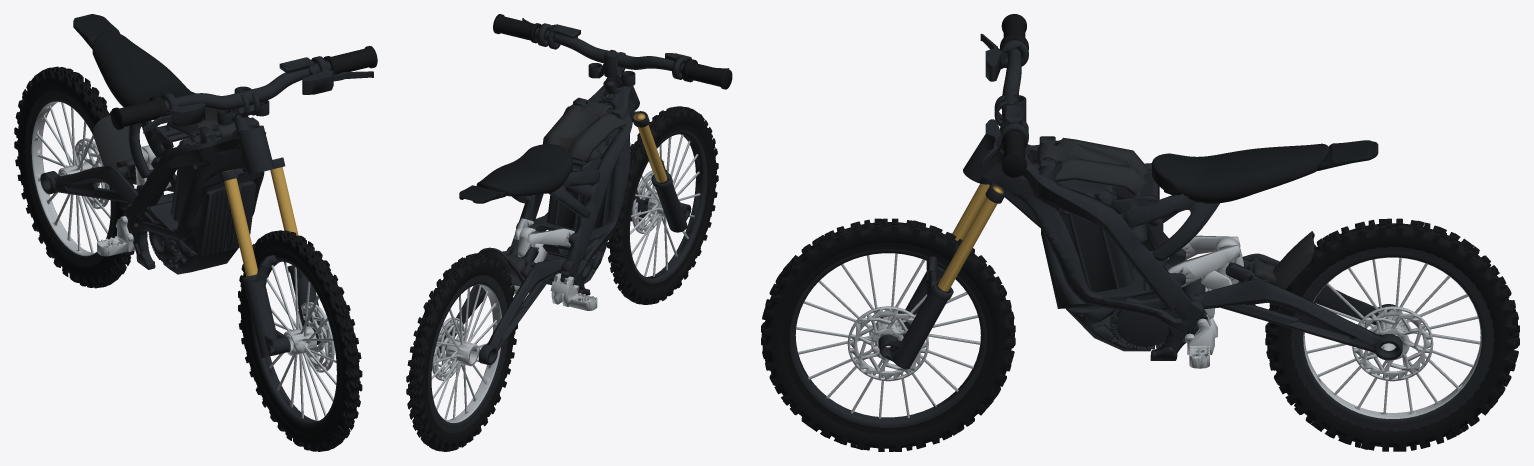
Rendered from lbx.glb.
3 renders of one model, left to right at view 1: azimuth 30°, elevation 25°; view 2: azimuth 150°, elevation 25°; view 3: azimuth 270°, elevation 25°, orthographic. The views are drawn at different scales.
Parts seen in each view (by area): view 1: Tyre (×2), Frame component 0, Spokes (×2), FULL SUSPENSION Frame - Seat (1).stl, Rim (×2), Fork - Fork Body (2).stl, FULL SUSPENSION Frame - Controller (1).stl, Swingarm, Cockpit - Handlebar (8).stl, Brake rotor (×2), FULL SUSPENSION Frame - Motor.stl, FULL SUSPENSION Frame - Rear Mudguard (1).stl (+12 smaller); view 2: Tyre (×2), Frame component 0, Spokes (×2), Rim (×2), FULL SUSPENSION Frame - Seat (1).stl, Swingarm, FULL SUSPENSION Frame - Battery Hatch (1).stl, Brake rotor (×2), Cockpit - Handlebar (8).stl, Battery, Fork - Fork Body (2).stl, FULL SUSPENSION Frame - Foot Peg RIGHT (1).stl (+11 smaller); view 3: Tyre (×2), Frame component 0, Rim (×2), Spokes (×2), FULL SUSPENSION Frame - Seat (1).stl, Swingarm, Brake rotor (×2), Battery, FULL SUSPENSION Frame - Battery Hatch (1).stl, Fork - Fork Body (2).stl, FULL SUSPENSION Frame - Motor.stl, Frame component 2 (+9 smaller).
Boxes of the visible parts, x1=… form: Tyre (×2): x1=14, y1=66, x2=362, y2=451; Frame component 0: x1=123, y1=117, x2=274, y2=269; Spokes (×2): x1=31, y1=101, x2=336, y2=421; FULL SUSPENSION Frame - Seat (1).stl: x1=73, y1=14, x2=195, y2=107; Rim (×2): x1=24, y1=90, x2=337, y2=427; Fork - Fork Body (2).stl: x1=241, y1=254, x2=325, y2=357; FULL SUSPENSION Frame - Controller (1).stl: x1=181, y1=179, x2=255, y2=256; Swingarm: x1=40, y1=161, x2=176, y2=204; Cockpit - Handlebar (8).stl: x1=164, y1=61, x2=330, y2=112; Brake rotor (×2): x1=75, y1=138, x2=334, y2=372; FULL SUSPENSION Frame - Motor.stl: x1=148, y1=197, x2=238, y2=274; FULL SUSPENSION Frame - Rear Mudguard (1).stl: x1=93, y1=115, x2=140, y2=167; Tyre (×2): x1=406, y1=106, x2=718, y2=451; Frame component 0: x1=506, y1=77, x2=639, y2=295; Spokes (×2): x1=431, y1=134, x2=700, y2=422; Rim (×2): x1=427, y1=130, x2=707, y2=433; FULL SUSPENSION Frame - Seat (1).stl: x1=459, y1=144, x2=572, y2=203; Swingarm: x1=439, y1=243, x2=566, y2=365; FULL SUSPENSION Frame - Battery Hatch (1).stl: x1=543, y1=101, x2=626, y2=160; Brake rotor (×2): x1=432, y1=171, x2=659, y2=380; Cockpit - Handlebar (8).stl: x1=534, y1=27, x2=684, y2=73; Battery: x1=546, y1=136, x2=612, y2=230; Fork - Fork Body (2).stl: x1=630, y1=158, x2=691, y2=232; FULL SUSPENSION Frame - Foot Peg RIGHT (1).stl: x1=550, y1=273, x2=597, y2=310; Tyre (×2): x1=761, y1=218, x2=1519, y2=451; Frame component 0: x1=963, y1=134, x2=1219, y2=360; Rim (×2): x1=789, y1=246, x2=1494, y2=431; Spokes (×2): x1=796, y1=253, x2=1481, y2=418; FULL SUSPENSION Frame - Seat (1).stl: x1=1152, y1=140, x2=1378, y2=203; Swingarm: x1=1183, y1=253, x2=1402, y2=360; Brake rotor (×2): x1=847, y1=306, x2=1433, y2=381; Battery: x1=1055, y1=172, x2=1135, y2=292; FULL SUSPENSION Frame - Battery Hatch (1).stl: x1=1037, y1=137, x2=1146, y2=195; Fork - Fork Body (2).stl: x1=878, y1=256, x2=953, y2=369; FULL SUSPENSION Frame - Motor.stl: x1=1066, y1=287, x2=1168, y2=351; Frame component 2: x1=1167, y1=235, x2=1240, y2=287.
Size of the model in its own units: 0.8319 by 1.01 by 1.9.
